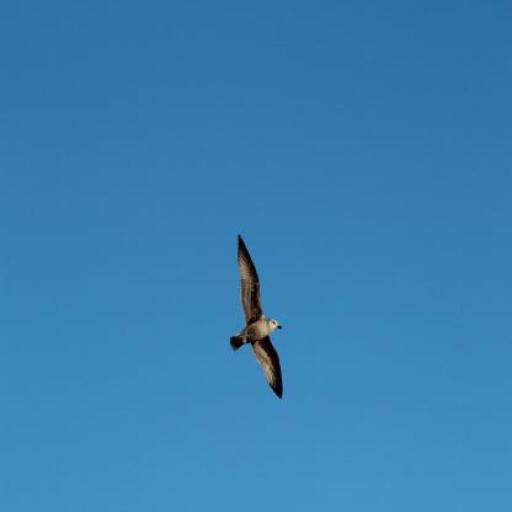bird: (229, 234, 283, 400)
